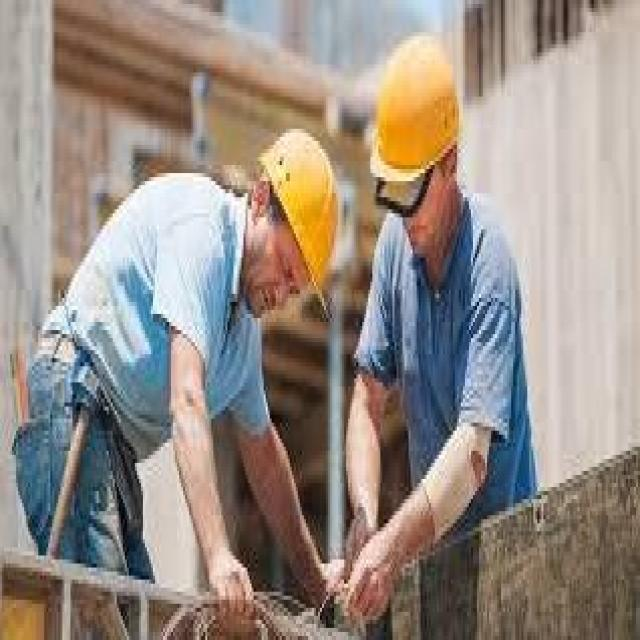Safety-Helmet: (360, 20, 475, 205), (254, 117, 350, 318)
